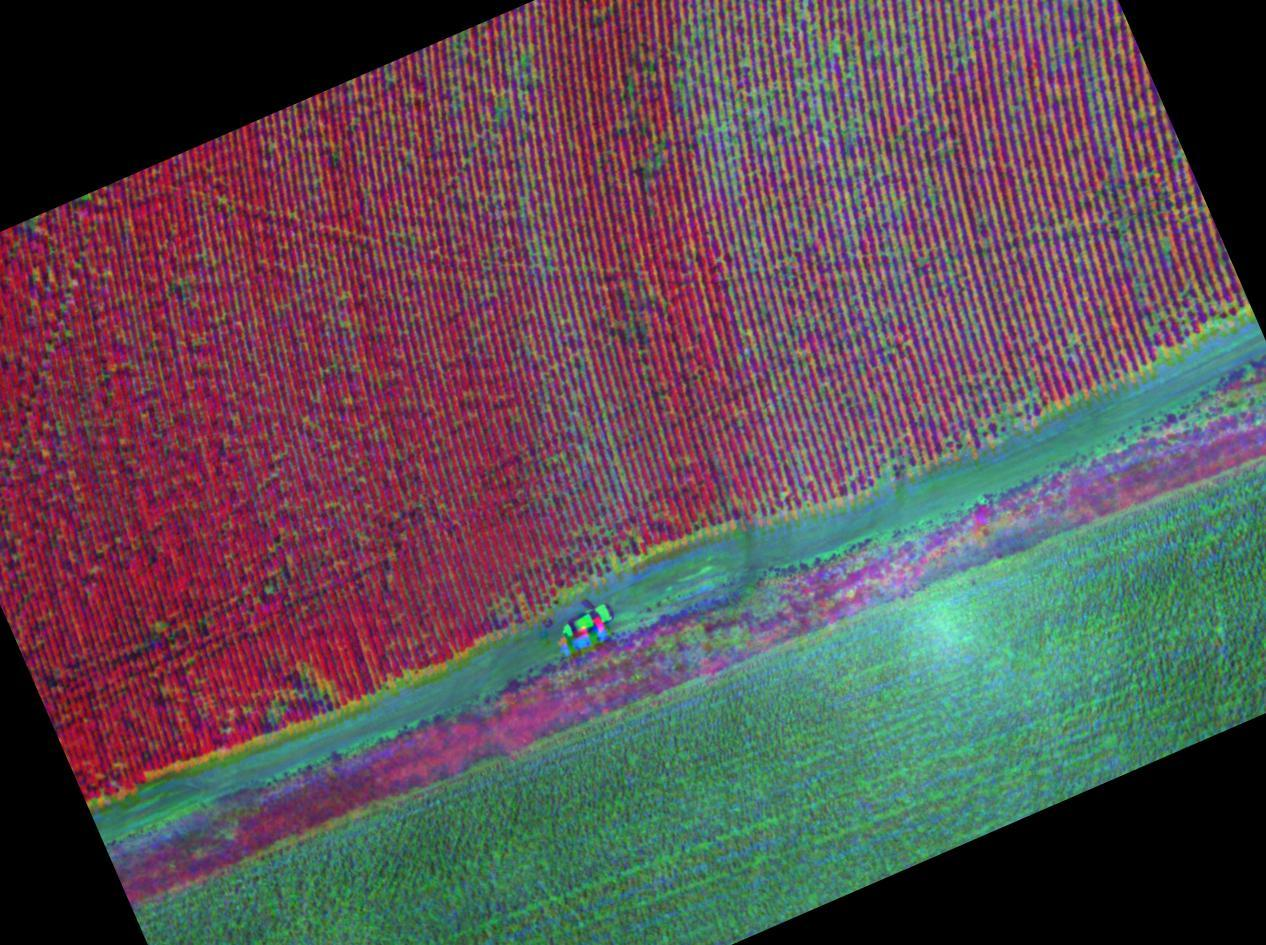dc: (698, 8, 801, 119), (838, 163, 932, 266), (946, 333, 1037, 427), (746, 308, 836, 397), (828, 13, 915, 98)
